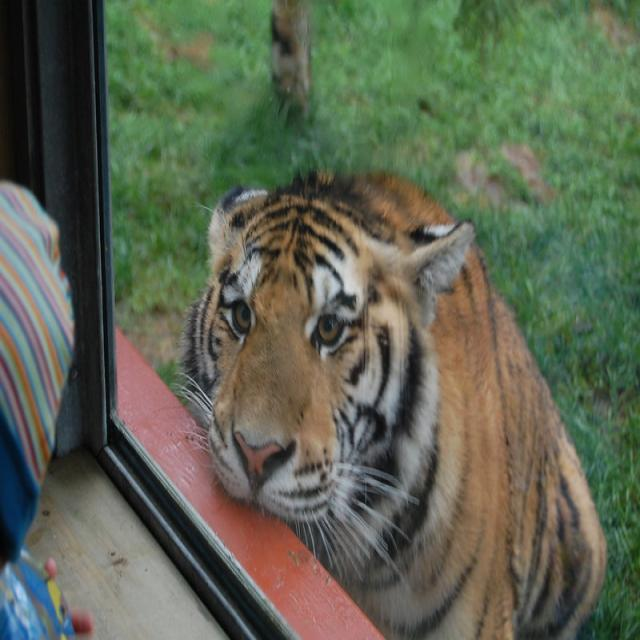Tiger: (168, 133, 606, 632)
